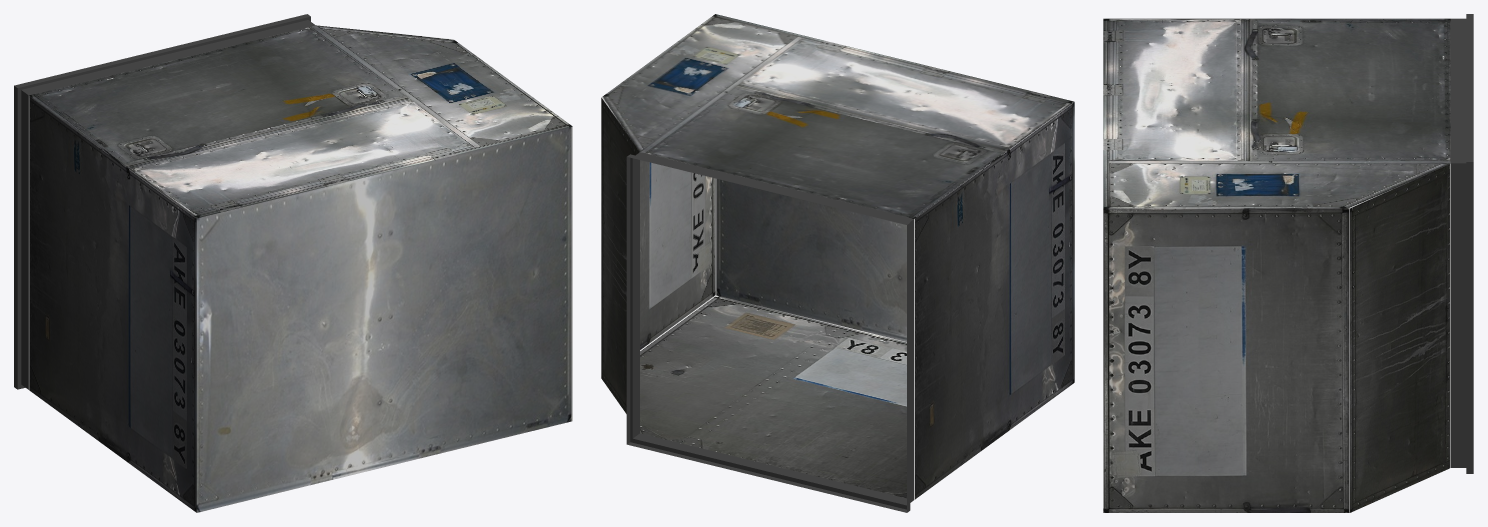
Rendered from jzx3.glb.
3 views of the same model, side by side, from view 1: azimuth 30°, elevation 25°; view 2: azimuth 150°, elevation 25°; view 3: azimuth 270°, elevation 25° (orthographic). The views are drawn at different scales.
Visible parts, largest first — view 1: jzx_02_primitive0, jzx_02_primitive1; view 2: jzx_02_primitive0, jzx_02_primitive1; view 3: jzx_02_primitive0, jzx_02_primitive1.
Boxes of the visible parts, <box> form: jzx_02_primitive0: <box>28,25,572,512</box>; jzx_02_primitive1: <box>14,14,315,389</box>; jzx_02_primitive0: <box>601,14,1074,499</box>; jzx_02_primitive1: <box>626,152,913,512</box>; jzx_02_primitive0: <box>1103,18,1450,512</box>; jzx_02_primitive1: <box>1450,14,1473,473</box>.
Size of the model in its own units: 2.01 by 1.52 by 1.64.
2 materials, 1 textured.
